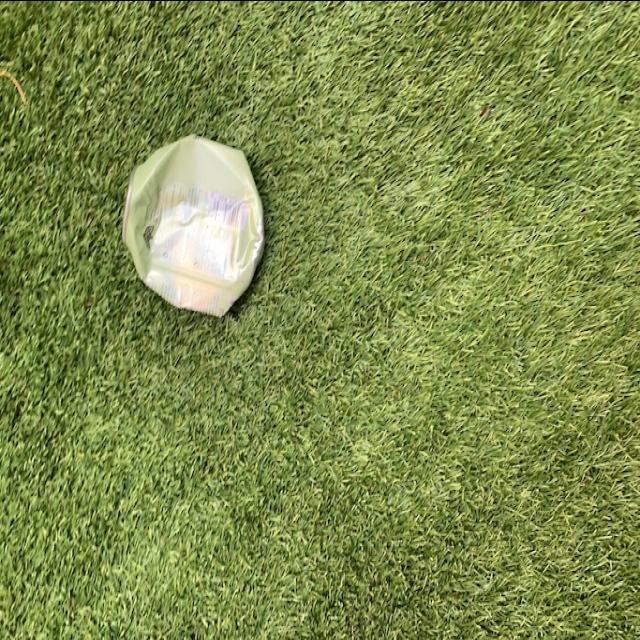litter: (122, 132, 267, 318)
